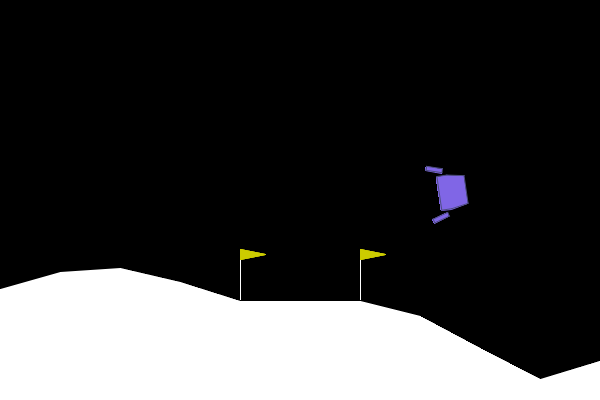lander: (424, 160, 472, 225)
